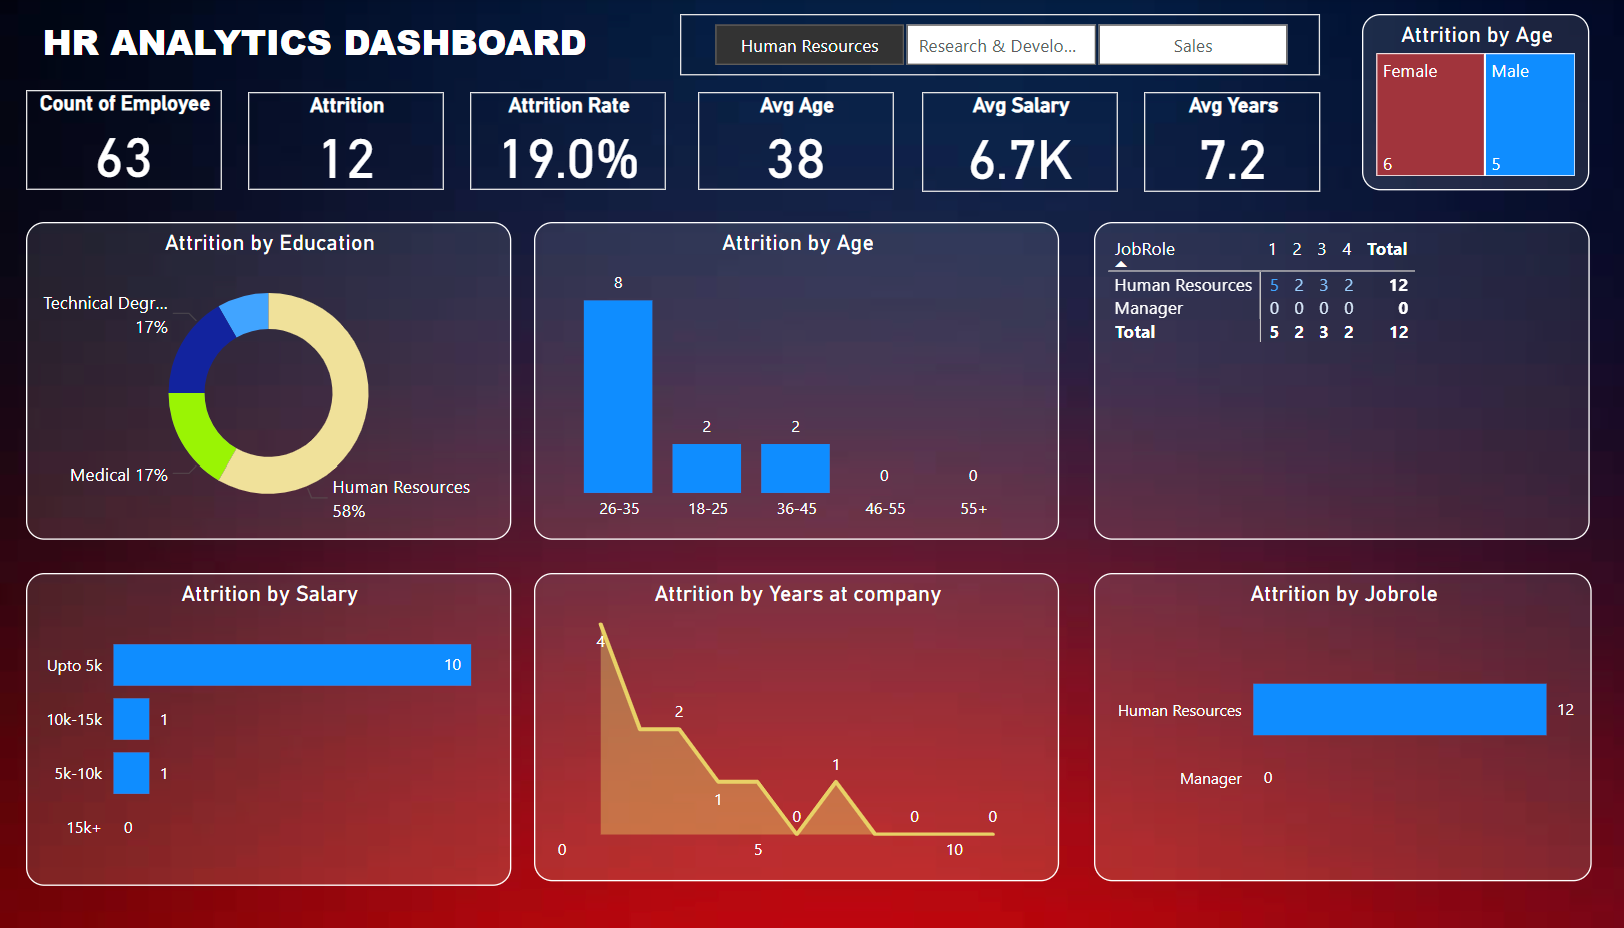

The page's visual inventory and layout, read from the dashboard file:
{"tool":"powerbi","page":{"name":"Page 1","canvas":[1280,720],"ordinal":0},"visuals":[{"type":"card","title":"Count of Employee","fields":{"Values":["CountNonNull(HR_Analytics.EmpID)"]},"box":[22.8,71.7,149.8,76.5],"z":0},{"type":"card","title":"Attrition","fields":{"Values":["Sum(HR_Analytics.AttritionCount)"]},"box":[192.2,73.3,149.8,74.9],"z":1000},{"type":"card","title":"Attrition Rate","fields":{"Values":["HR_Analytics.AttritionRate"]},"box":[363.2,73.3,149.8,74.9],"z":2000},{"type":"card","title":"Avg Age","fields":{"Values":["Avg(HR_Analytics.Age)"]},"box":[537.4,73.3,149.8,74.9],"z":3000},{"type":"card","title":"Avg Salary","fields":{"Values":["Avg(HR_Analytics.MonthlyIncome)"]},"box":[708.4,73.3,149.8,76.5],"z":4000},{"type":"card","title":"Avg Years","fields":{"Values":["Avg(HR_Analytics.YearsAtCompany)"]},"box":[879.4,73.3,135.2,76.5],"z":5000},{"type":"donutChart","title":"Attrition by Education","fields":{"Category":["HR_Analytics.EducationField","HR_Analytics.Education"],"Y":["Sum(HR_Analytics.AttritionCount)"]},"box":[22.8,172.6,371.3,242.6],"z":6000},{"type":"columnChart","title":"Attrition by Age","fields":{"Category":["HR_Analytics.AgeGroup"],"Y":["Sum(HR_Analytics.AttritionCount)"]},"box":[412,172.6,402.2,242.6],"z":7000},{"type":"pivotTable","fields":{"Rows":["HR_Analytics.JobRole"],"Columns":["HR_Analytics.JobSatisfaction"],"Values":["Sum(HR_Analytics.AttritionCount)"]},"box":[840.3,172.6,379.4,242.6],"z":8000},{"type":"barChart","title":"Attrition by Salary","fields":{"Category":["HR_Analytics.SalarySlab"],"Y":["Sum(HR_Analytics.AttritionCount)"]},"box":[22.8,441.3,371.3,239.4],"z":9000},{"type":"barChart","title":"Attrition by Jobrole","fields":{"Category":["HR_Analytics.JobRole"],"Y":["Sum(HR_Analytics.AttritionCount)"]},"box":[840.3,441.3,381.1,236.1],"z":10000},{"type":"areaChart","title":"Attrition by Years at company","fields":{"Category":["HR_Analytics.YearsAtCompany"],"Y":["Sum(HR_Analytics.AttritionCount)"]},"box":[412,441.3,402.2,236.1],"z":11000},{"type":"treemap","title":"Attrition by Age","fields":{"Group":["HR_Analytics.Gender"],"Values":["Sum(HR_Analytics.AttritionCount)"]},"box":[1045.5,13,174.2,135.2],"z":12000},{"type":"slicer","fields":{"Values":["HR_Analytics.Department"]},"box":[524.4,13,490.2,47.2],"z":13000},{"type":"textbox","box":[30.9,11.4,457.6,61.9],"z":14000}]}

Visuals, with their boxes in screenshot pixels (x1, y1, x2, y2), scaled from the page's 1280x720 canvas onto the 1624x928 screenshot:
"Count of Employee" card: 29/92/219/191
"Attrition" card: 244/94/434/191
"Attrition Rate" card: 461/94/651/191
"Avg Age" card: 682/94/872/191
"Avg Salary" card: 899/94/1089/193
"Avg Years" card: 1116/94/1287/193
"Attrition by Education" donutChart: 29/222/500/535
"Attrition by Age" columnChart: 523/222/1033/535
pivotTable - HR_Analytics.JobRole x HR_Analytics.JobSatisfaction: 1066/222/1547/535
"Attrition by Salary" barChart: 29/569/500/877
"Attrition by Jobrole" barChart: 1066/569/1550/873
"Attrition by Years at company" areaChart: 523/569/1033/873
"Attrition by Age" treemap: 1326/17/1547/191
slicer - HR_Analytics.Department: 665/17/1287/78
textbox: 39/15/620/94
